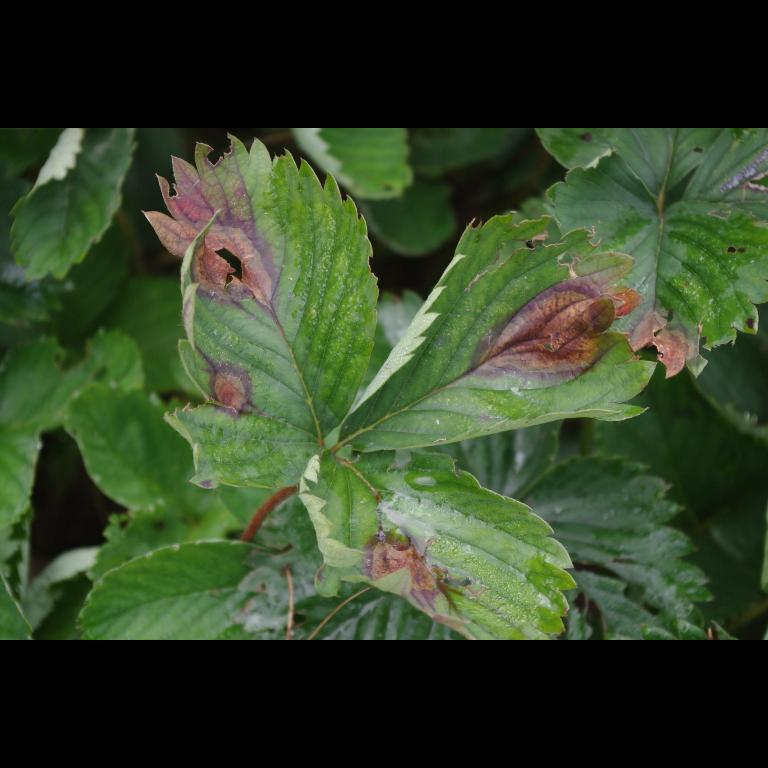blight: (168, 166, 298, 298), (476, 268, 622, 372), (356, 508, 475, 620)
